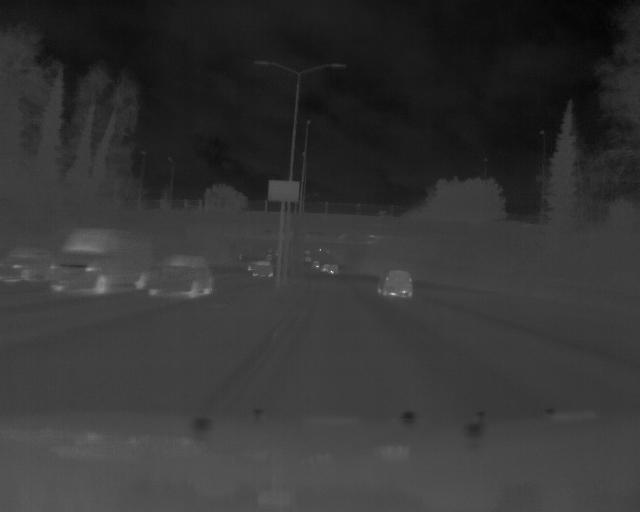car: (46, 222, 153, 296), (149, 251, 216, 301), (377, 267, 415, 302), (250, 257, 276, 280)
